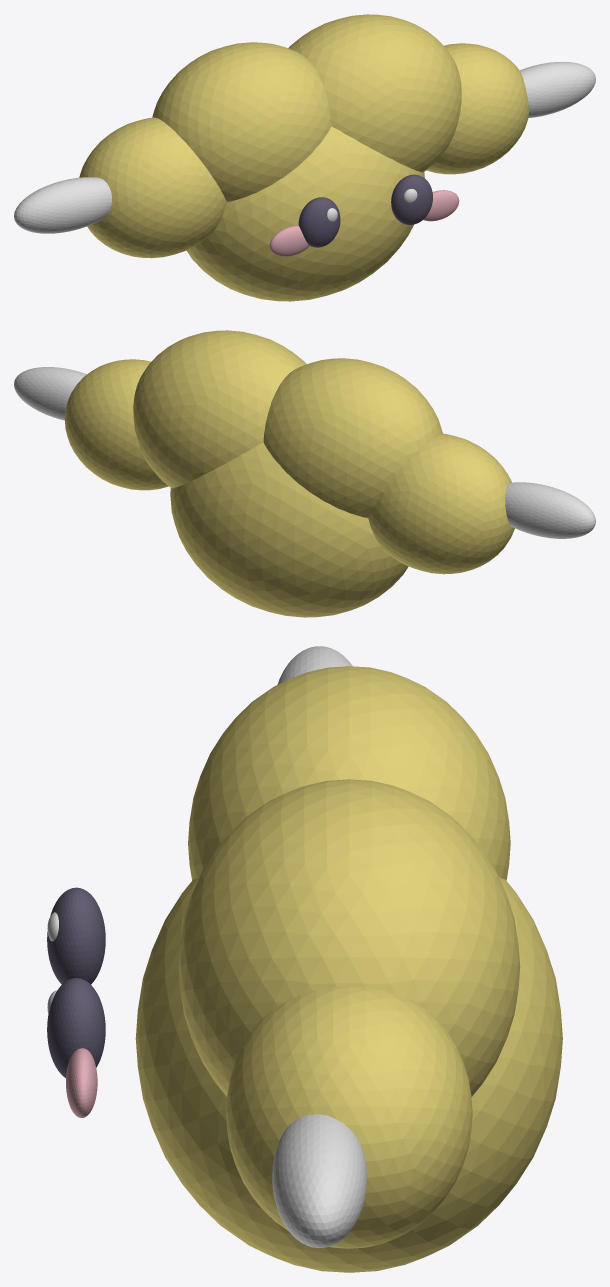
The model's file is howahowa_sun.glb.
3 renders of one model, top to bottom at view 1: azimuth 30°, elevation 25°; view 2: azimuth 150°, elevation 25°; view 3: azimuth 270°, elevation 25°, orthographic. The views are drawn at different scales.
Parts seen in each view (by area): view 1: howahowa_4, howahowa_1, howahowa_2, howahowa_0, howahowa_3, howahowa_5, howahowa_6, howahowa_7, howahowa_10, howahowa_9, howahowa_12; view 2: howahowa_4, howahowa_1, howahowa_2, howahowa_0, howahowa_3, howahowa_5, howahowa_6; view 3: howahowa_2, howahowa_3, howahowa_4, howahowa_1, howahowa_6, howahowa_7, howahowa_10, howahowa_12, howahowa_5.
Part boxes in pixels (bbox=[...]): howahowa_4: bbox=[186, 126, 424, 301]; howahowa_1: bbox=[152, 42, 331, 201]; howahowa_2: bbox=[288, 14, 461, 172]; howahowa_0: bbox=[79, 117, 226, 258]; howahowa_3: bbox=[426, 43, 528, 174]; howahowa_5: bbox=[14, 177, 111, 233]; howahowa_6: bbox=[519, 61, 595, 117]; howahowa_7: bbox=[298, 197, 340, 247]; howahowa_10: bbox=[391, 174, 432, 224]; howahowa_9: bbox=[269, 225, 309, 256]; howahowa_12: bbox=[423, 190, 459, 221]; howahowa_4: bbox=[170, 442, 408, 617]; howahowa_1: bbox=[263, 358, 442, 517]; howahowa_2: bbox=[133, 330, 306, 488]; howahowa_0: bbox=[368, 433, 514, 574]; howahowa_3: bbox=[64, 359, 168, 490]; howahowa_5: bbox=[505, 482, 595, 538]; howahowa_6: bbox=[14, 367, 86, 420]; howahowa_2: bbox=[178, 779, 520, 1096]; howahowa_3: bbox=[226, 986, 472, 1248]; howahowa_4: bbox=[135, 877, 562, 1272]; howahowa_1: bbox=[188, 666, 510, 880]; howahowa_6: bbox=[272, 1114, 366, 1247]; howahowa_7: bbox=[47, 887, 105, 984]; howahowa_10: bbox=[47, 978, 105, 1077]; howahowa_12: bbox=[66, 1048, 97, 1117]; howahowa_5: bbox=[277, 646, 352, 684].
Bounding box in the file's own units: 2.26 × 0.9415 × 0.8695.
